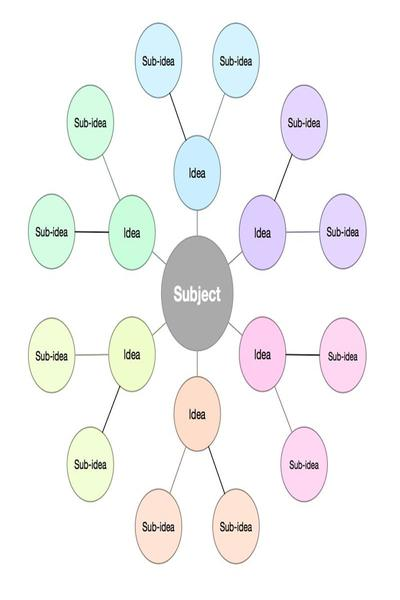arrow: (205, 444, 228, 498), (100, 155, 123, 202), (167, 93, 189, 140), (273, 385, 294, 434), (104, 387, 126, 433), (275, 155, 296, 201), (168, 448, 189, 493), (210, 93, 228, 144), (228, 248, 242, 269), (286, 228, 318, 237), (72, 229, 109, 236), (74, 351, 108, 358), (229, 321, 244, 336), (153, 323, 167, 338), (153, 253, 166, 269), (285, 352, 318, 358), (194, 212, 200, 233), (194, 350, 199, 374)
topic: (161, 233, 232, 352), (212, 22, 261, 98), (134, 22, 183, 98), (108, 315, 156, 392), (281, 85, 329, 162), (239, 195, 287, 271), (67, 426, 115, 502), (66, 85, 115, 159), (239, 317, 287, 392), (173, 136, 221, 211), (320, 194, 367, 270), (28, 317, 75, 393), (135, 489, 183, 563), (28, 194, 75, 269), (109, 196, 155, 272), (320, 318, 366, 393), (213, 489, 259, 564), (175, 377, 221, 452), (280, 428, 327, 501)
